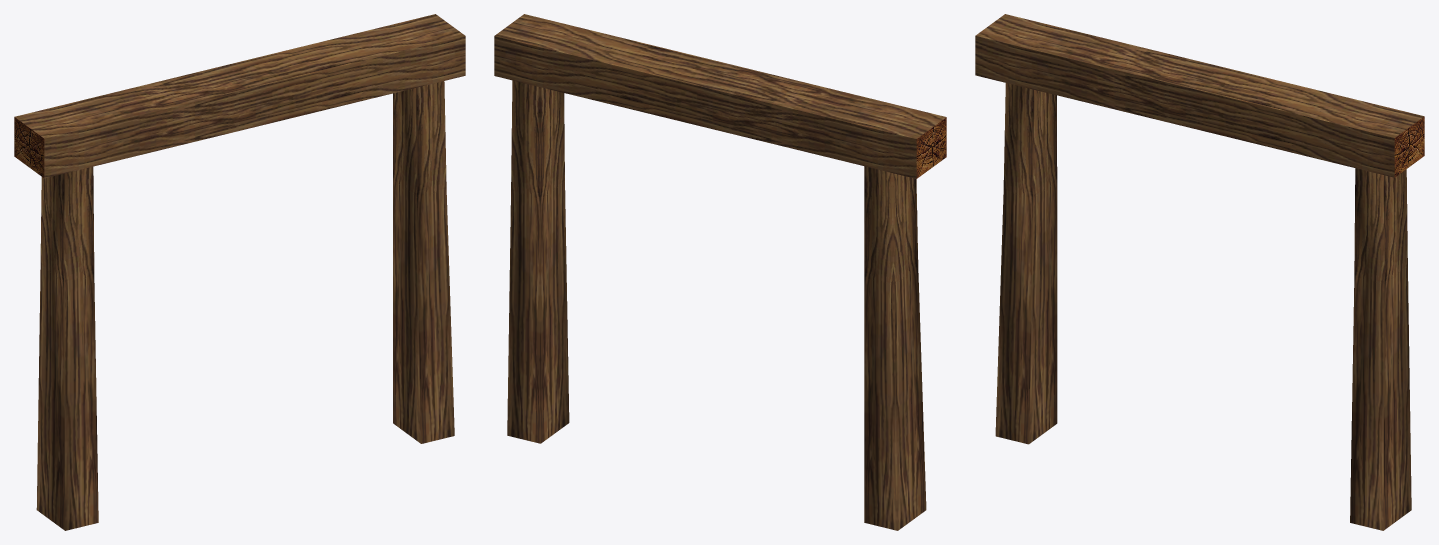
Rendered from LAKETOWN_WAREHOUSE1_PS_WH1_DOORFRAME__GX.fbx.
3 renders of one model, left to right at view 1: azimuth 30°, elevation 25°; view 2: azimuth 150°, elevation 25°; view 3: azimuth 330°, elevation 25°, orthographic.
Parts seen in each view (by area): view 1: LAKETOWN_WAREHOUSE1_PS_WH1_DOORFRAME__GX; view 2: LAKETOWN_WAREHOUSE1_PS_WH1_DOORFRAME__GX; view 3: LAKETOWN_WAREHOUSE1_PS_WH1_DOORFRAME__GX.
Boxes of the visible parts, bbox=[...] form: LAKETOWN_WAREHOUSE1_PS_WH1_DOORFRAME__GX: bbox=[14, 14, 465, 530]; LAKETOWN_WAREHOUSE1_PS_WH1_DOORFRAME__GX: bbox=[494, 14, 946, 530]; LAKETOWN_WAREHOUSE1_PS_WH1_DOORFRAME__GX: bbox=[975, 14, 1424, 530].
Size of the model in its own units: 32757 by 29503 by 4078.
Materials: 3 (3 with a texture image).
